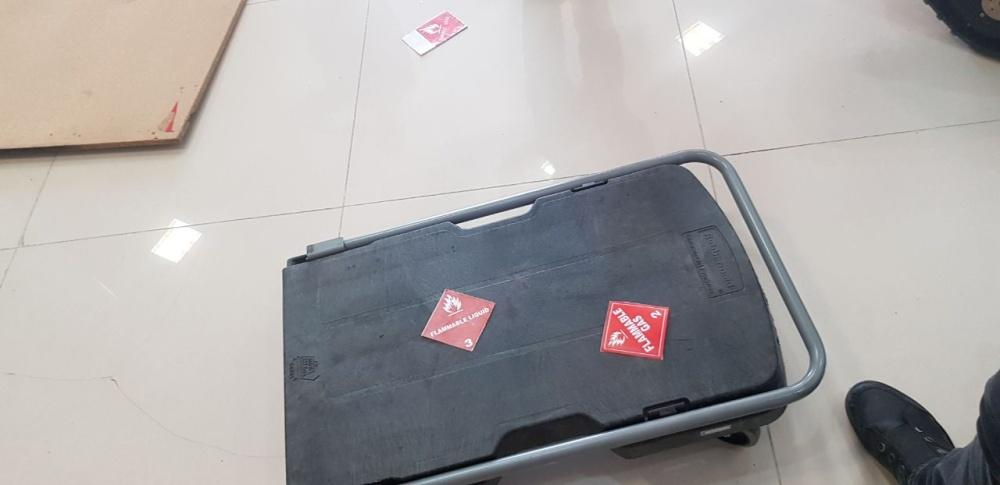flammable: (419, 287, 498, 355), (597, 298, 672, 361), (414, 11, 469, 52)
